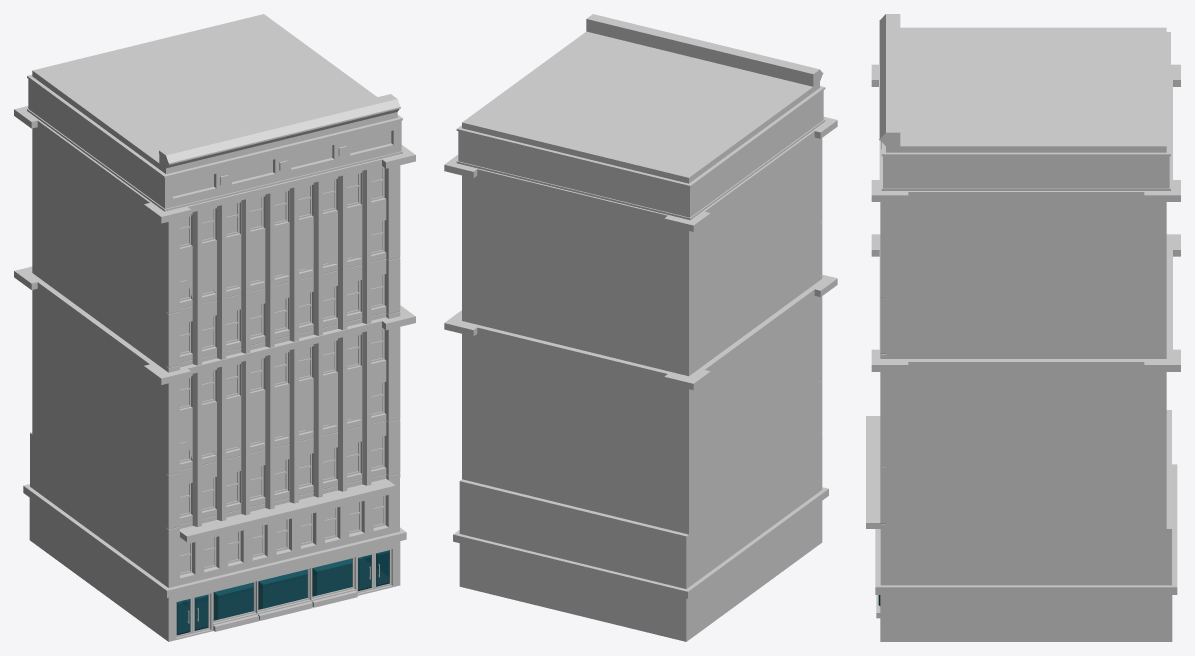
The model's file is building_office_01_medium.fbx.
The picture shows the model from 3 angles, left to right: view 1: azimuth 30°, elevation 25°; view 2: azimuth 150°, elevation 25°; view 3: azimuth 270°, elevation 25°; orthographic projection. The views are drawn at different scales.
Parts seen in each view (by area): view 1: building_office_01_medium, building_office_01_floor_medium_glass; view 2: building_office_01_medium; view 3: building_office_01_medium.
Part boxes in pixels (x1=…): building_office_01_medium: x1=14, y1=14, x2=415, y2=641; building_office_01_floor_medium_glass: x1=176, y1=550, x2=389, y2=635; building_office_01_medium: x1=444, y1=14, x2=837, y2=641; building_office_01_medium: x1=866, y1=14, x2=1180, y2=641.
Size of the model in its own units: 1979 by 3600 by 2017.
